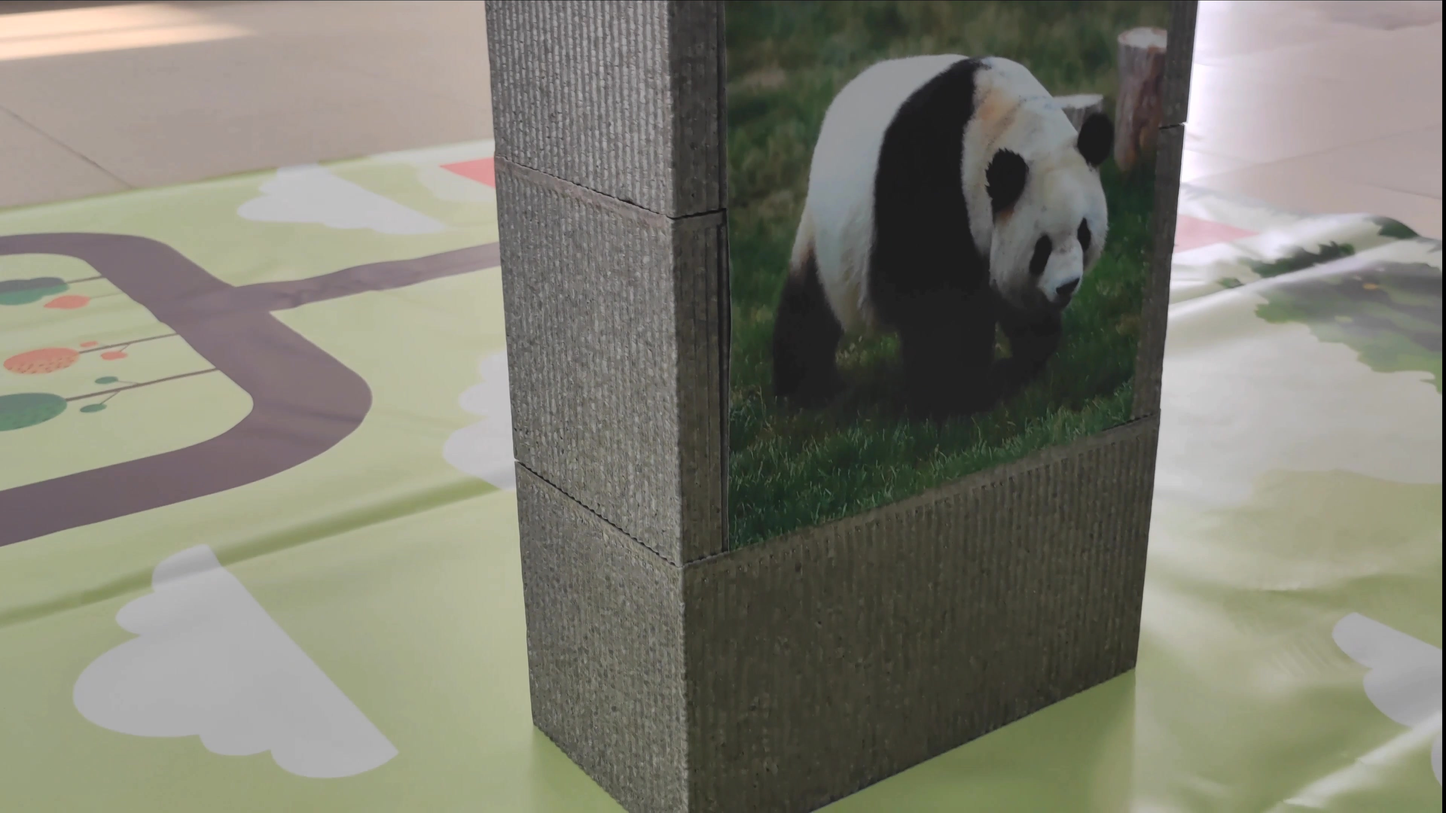panda: (719, 18, 1155, 410)
